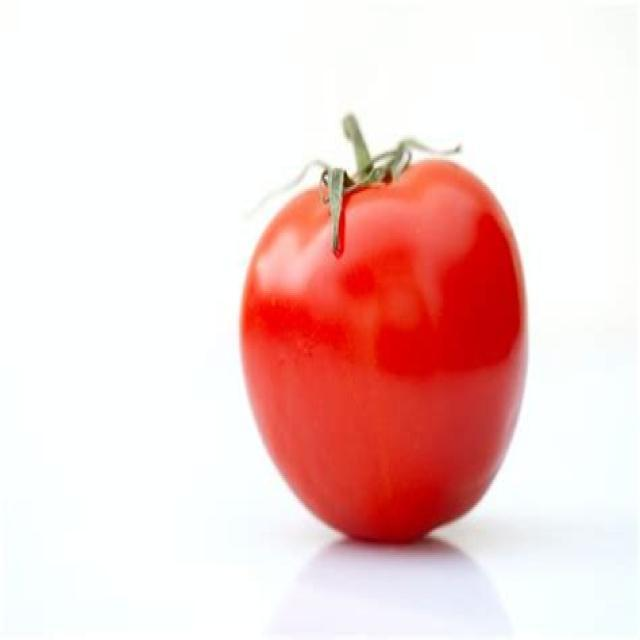Tomato: (238, 144, 532, 546)
